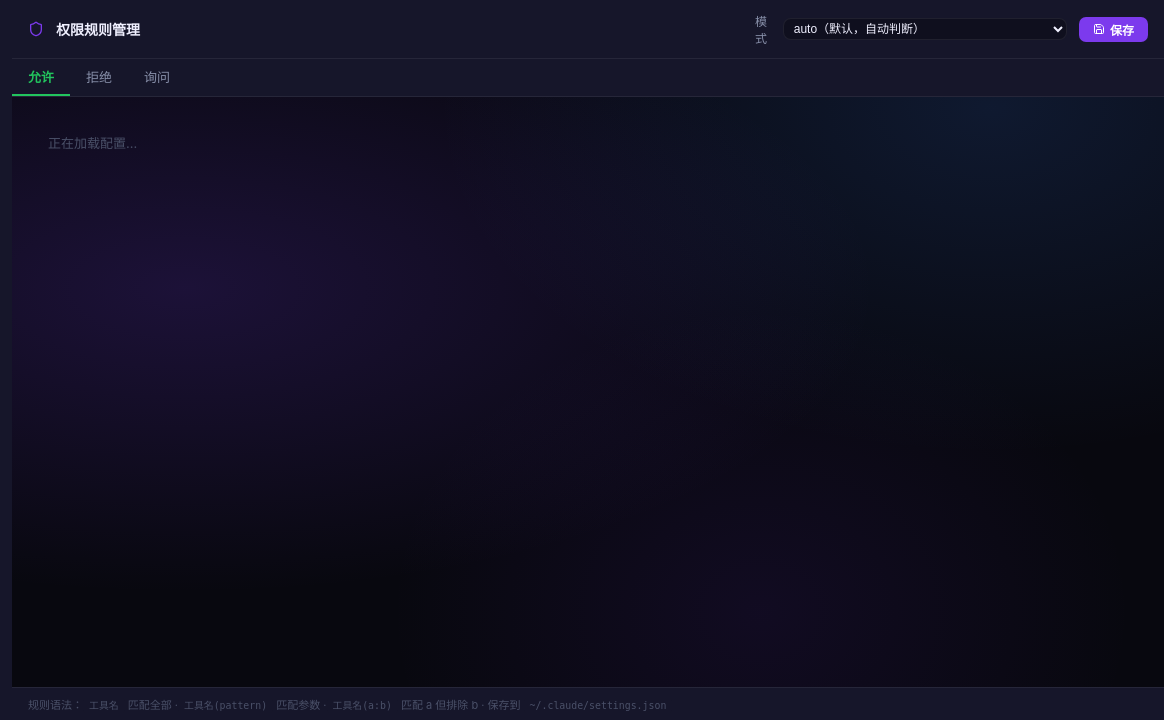
RulesPanel - 有已有规则 › 切换到拒绝标签页显示拒绝规则
The width and height of the screenshot is (1164, 720).
Click the button "拒绝" at (99, 78), box [70,59,128,96]
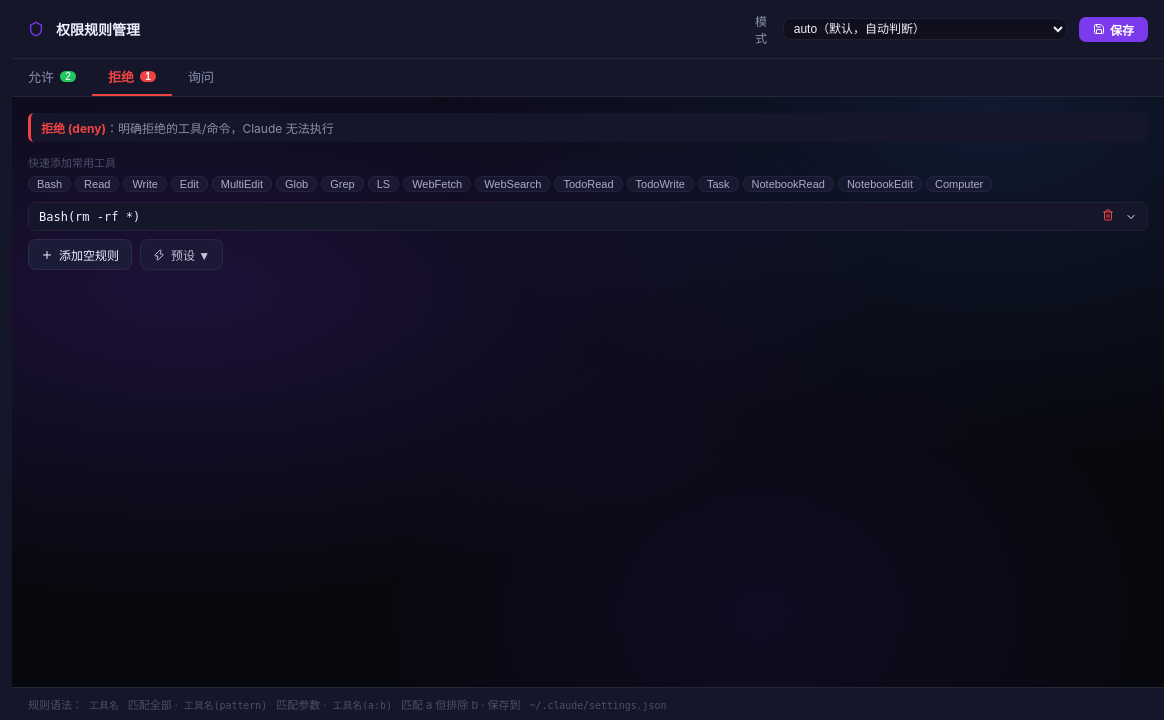
Check: the text "Bash(rm -rf *)" is shown, box [39,210,140,224]
